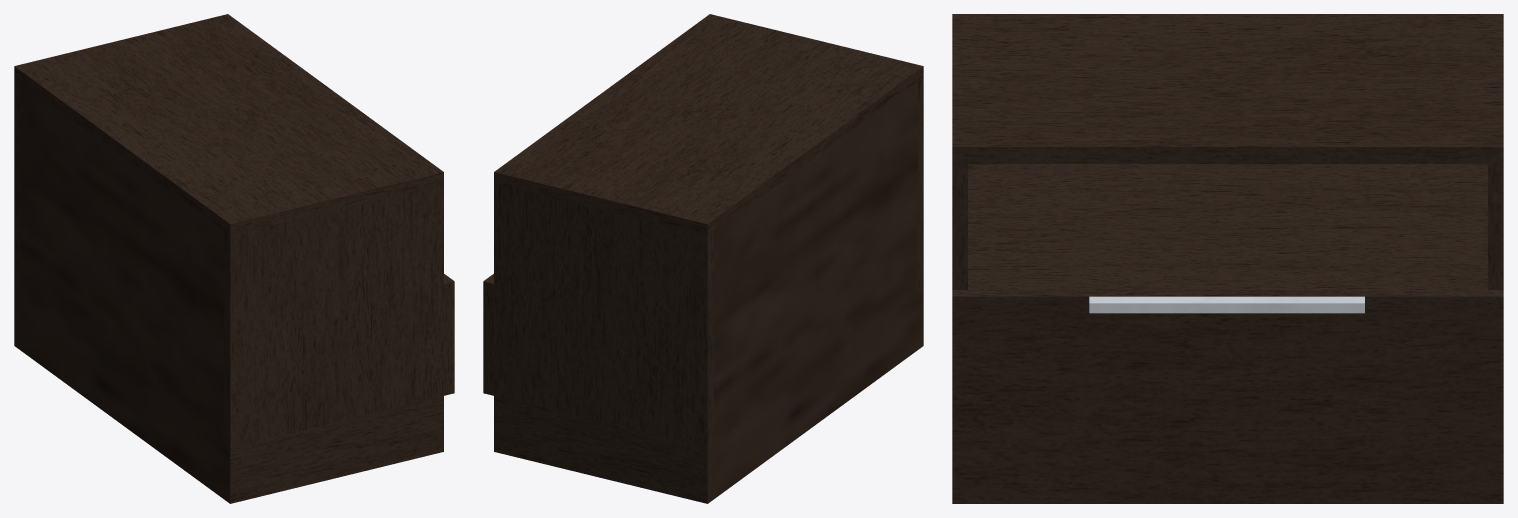
Rendered from comodino.fbx.
The picture shows the model from 3 angles, left to right: view 1: azimuth 30°, elevation 25°; view 2: azimuth 150°, elevation 25°; view 3: azimuth 270°, elevation 25°; orthographic projection. The views are drawn at different scales.
Parts seen in each view (by area): view 1: contenitore.002, cassetto; view 2: contenitore.002, cassetto; view 3: contenitore.002, cassetto.
Boxes of the visible parts, x1=… form: contenitore.002: x1=14, y1=14, x2=443, y2=503; cassetto: x1=444, y1=274, x2=454, y2=395; contenitore.002: x1=494, y1=14, x2=923, y2=503; cassetto: x1=483, y1=274, x2=493, y2=395; contenitore.002: x1=952, y1=14, x2=1503, y2=503; cassetto: x1=952, y1=290, x2=1503, y2=439.
Bounding box in the file's own units: 44 × 50 × 70.
